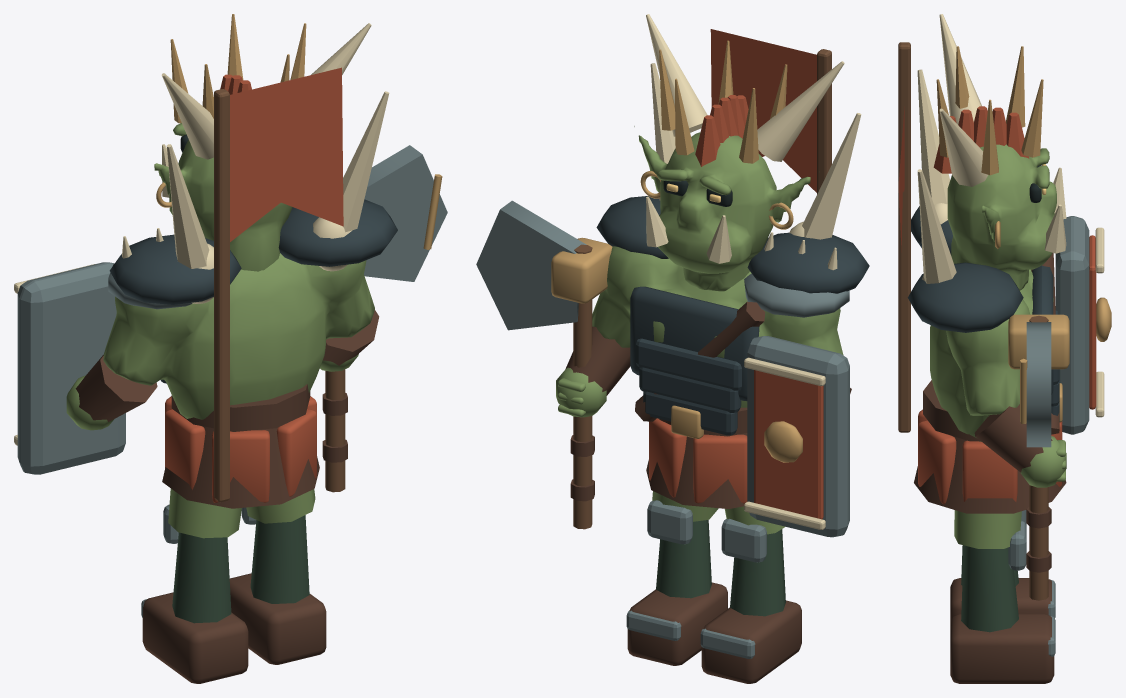
Rendered from host_10.glb.
3 renders of one model, left to right at view 1: azimuth 30°, elevation 25°; view 2: azimuth 150°, elevation 25°; view 3: azimuth 270°, elevation 25°, orthographic. The views are drawn at different scales.
Parts seen in each view (by area): view 1: mesh_Skin.002, mesh_Iron.002, mesh_Cloth.009, mesh_Leather.002, mesh_Warlord blackened steel, mesh_Bone.009, mesh_Wood.009, mesh_Leather.009, mesh_Leather.001, mesh_Shadow.009, mesh_Shadow.001, mesh_Copper.009 (+2 smaller); view 2: mesh_Skin.002, mesh_Cloth.009, mesh_Warlord blackened steel, mesh_Iron.002, mesh_Bone.009, mesh_Copper.009, mesh_Leather.002, mesh_Leather.009, mesh_Wood.009, mesh_Leather.001, mesh_Shadow.009, mesh_Shadow.001 (+3 smaller); view 3: mesh_Skin.002, mesh_Bone.009, mesh_Iron.002, mesh_Cloth.009, mesh_Warlord blackened steel, mesh_Leather.002, mesh_Copper.009, mesh_Wood.009, mesh_Leather.001, mesh_Shadow.001, mesh_Skin.001, mesh_Leather.009 (+1 smaller).
Boxes of the visible parts, box(x1,y1,x2,y2) form: mesh_Skin.002: box(66, 123, 374, 430); mesh_Iron.002: box(17, 145, 447, 474); mesh_Cloth.009: box(165, 67, 343, 502); mesh_Leather.002: box(75, 310, 379, 508); mesh_Warlord blackened steel: box(109, 199, 397, 383); mesh_Bone.009: box(14, 23, 389, 445); mesh_Wood.009: box(214, 89, 345, 502); mesh_Leather.009: box(142, 592, 248, 683); mesh_Leather.001: box(229, 573, 326, 664); mesh_Shadow.009: box(172, 532, 231, 623); mesh_Shadow.001: box(250, 515, 309, 603); mesh_Copper.009: box(156, 14, 442, 249); mesh_Skin.002: box(556, 126, 843, 417); mesh_Cloth.009: box(649, 29, 823, 519); mesh_Warlord blackened steel: box(596, 196, 869, 435); mesh_Iron.002: box(476, 200, 849, 537); mesh_Bone.009: box(646, 14, 861, 529); mesh_Copper.009: box(551, 40, 802, 462); mesh_Leather.002: box(565, 301, 851, 508); mesh_Leather.009: box(701, 600, 801, 683); mesh_Wood.009: box(573, 49, 831, 529); mesh_Leather.001: box(627, 582, 727, 665); mesh_Shadow.009: box(730, 529, 785, 616); mesh_Shadow.001: box(656, 520, 711, 598); mesh_Skin.002: box(930, 144, 1066, 487); mesh_Bone.009: box(917, 14, 1104, 417); mesh_Iron.002: box(1026, 216, 1089, 447); mesh_Cloth.009: box(898, 106, 1096, 504); mesh_Warlord blackened steel: box(907, 206, 1059, 421); mesh_Leather.002: box(914, 253, 1066, 572); mesh_Copper.009: box(936, 46, 1111, 423); mesh_Wood.009: box(898, 42, 1048, 600); mesh_Leather.001: box(950, 614, 1054, 683); mesh_Shadow.001: box(961, 545, 1018, 632); mesh_Skin.001: box(954, 510, 1021, 548); mesh_Leather.009: box(950, 578, 1051, 622).
Size of the model in its own units: 2.11 by 3.14 by 1.02.
